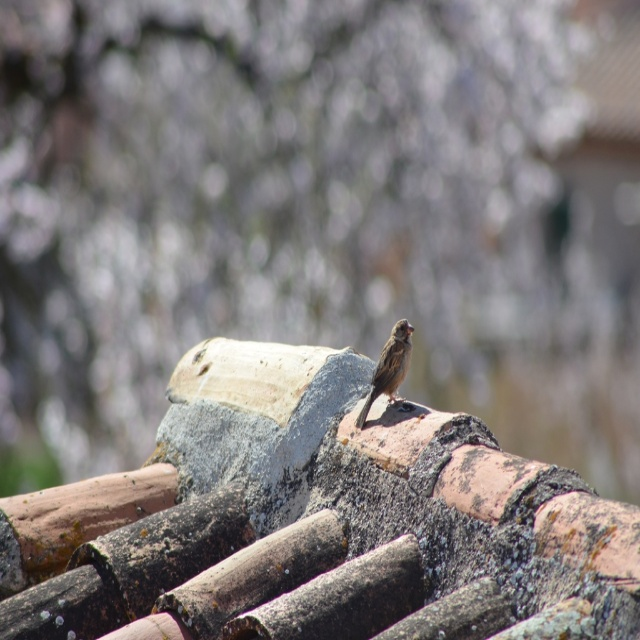Sparrow: (353, 322, 420, 435)
